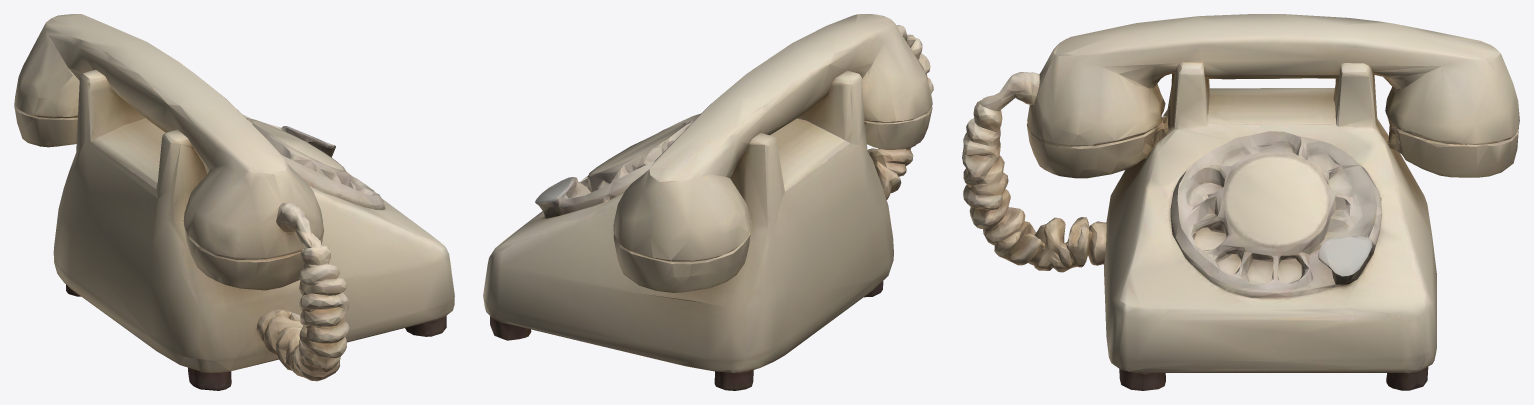
The model's file is telephone.glb.
The picture shows the model from 3 angles, left to right: view 1: azimuth 30°, elevation 25°; view 2: azimuth 150°, elevation 25°; view 3: azimuth 270°, elevation 25°; orthographic projection.
Parts seen in each view (by area): view 1: geometry_0; view 2: geometry_0; view 3: geometry_0.
Boxes of the visible parts, bbox=[...] form: geometry_0: bbox=[14, 14, 454, 390]; geometry_0: bbox=[483, 14, 933, 390]; geometry_0: bbox=[962, 14, 1519, 390].
Size of the model in its own units: 0.1421 by 0.1249 by 0.24.
1 material, 1 textured.
